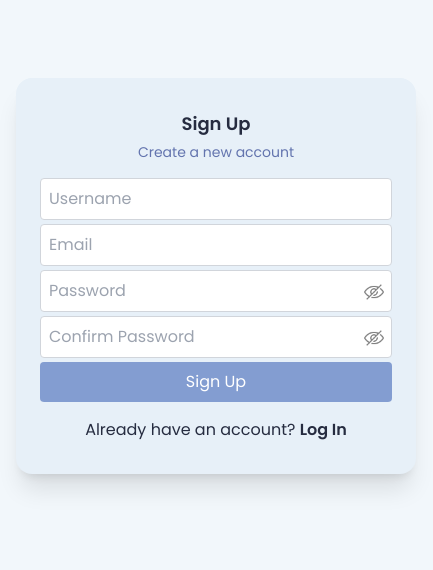
SignUp Page › shows error if passwords do not match
Type "testuser" into the field with placeholder "Username" at point(216, 199), box [40,178,392,220]
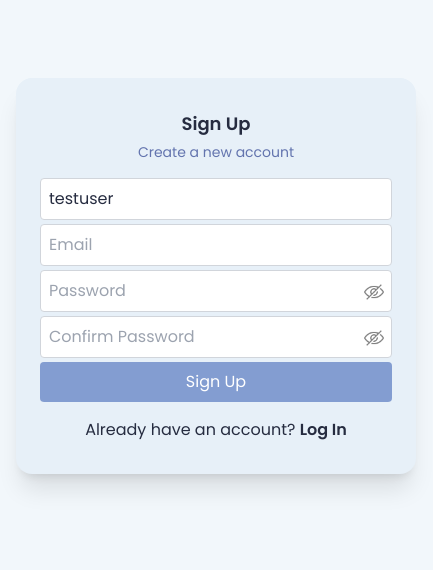
Type "test@example.com" into the field with placeholder "Email" at point(216, 245), box [40,224,392,266]
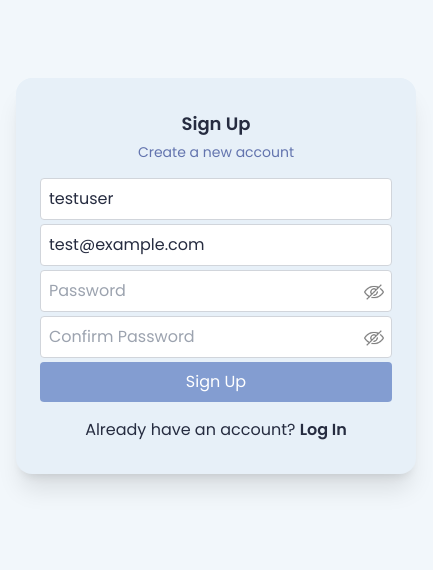
Type "password123" into the password field with placeholder "Password" at point(216, 291), box [40,270,392,312]
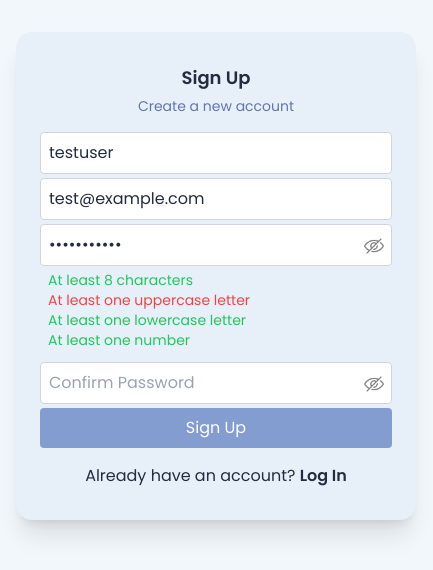
Type "password456" into the password field with placeholder "Confirm Password" at point(216, 383), box [40,362,392,404]
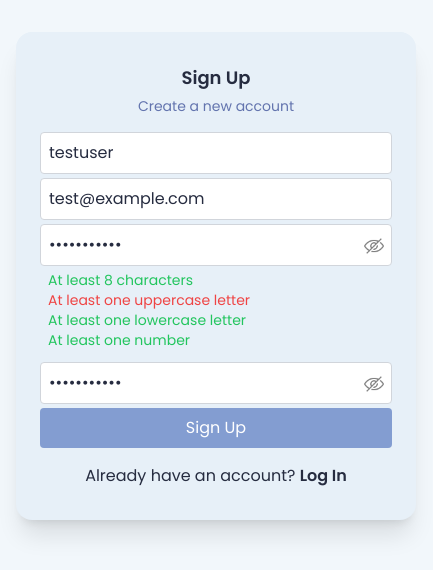
Click the button "Sign Up" at point(216, 428), box [40,408,392,448]
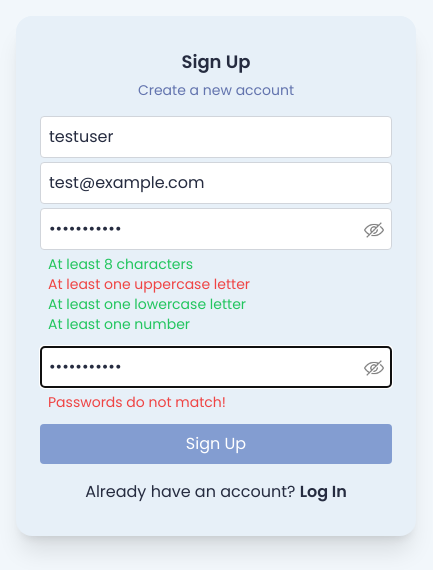
Now the text "Passwords do not match!" is shown, box [48,392,226,412]
